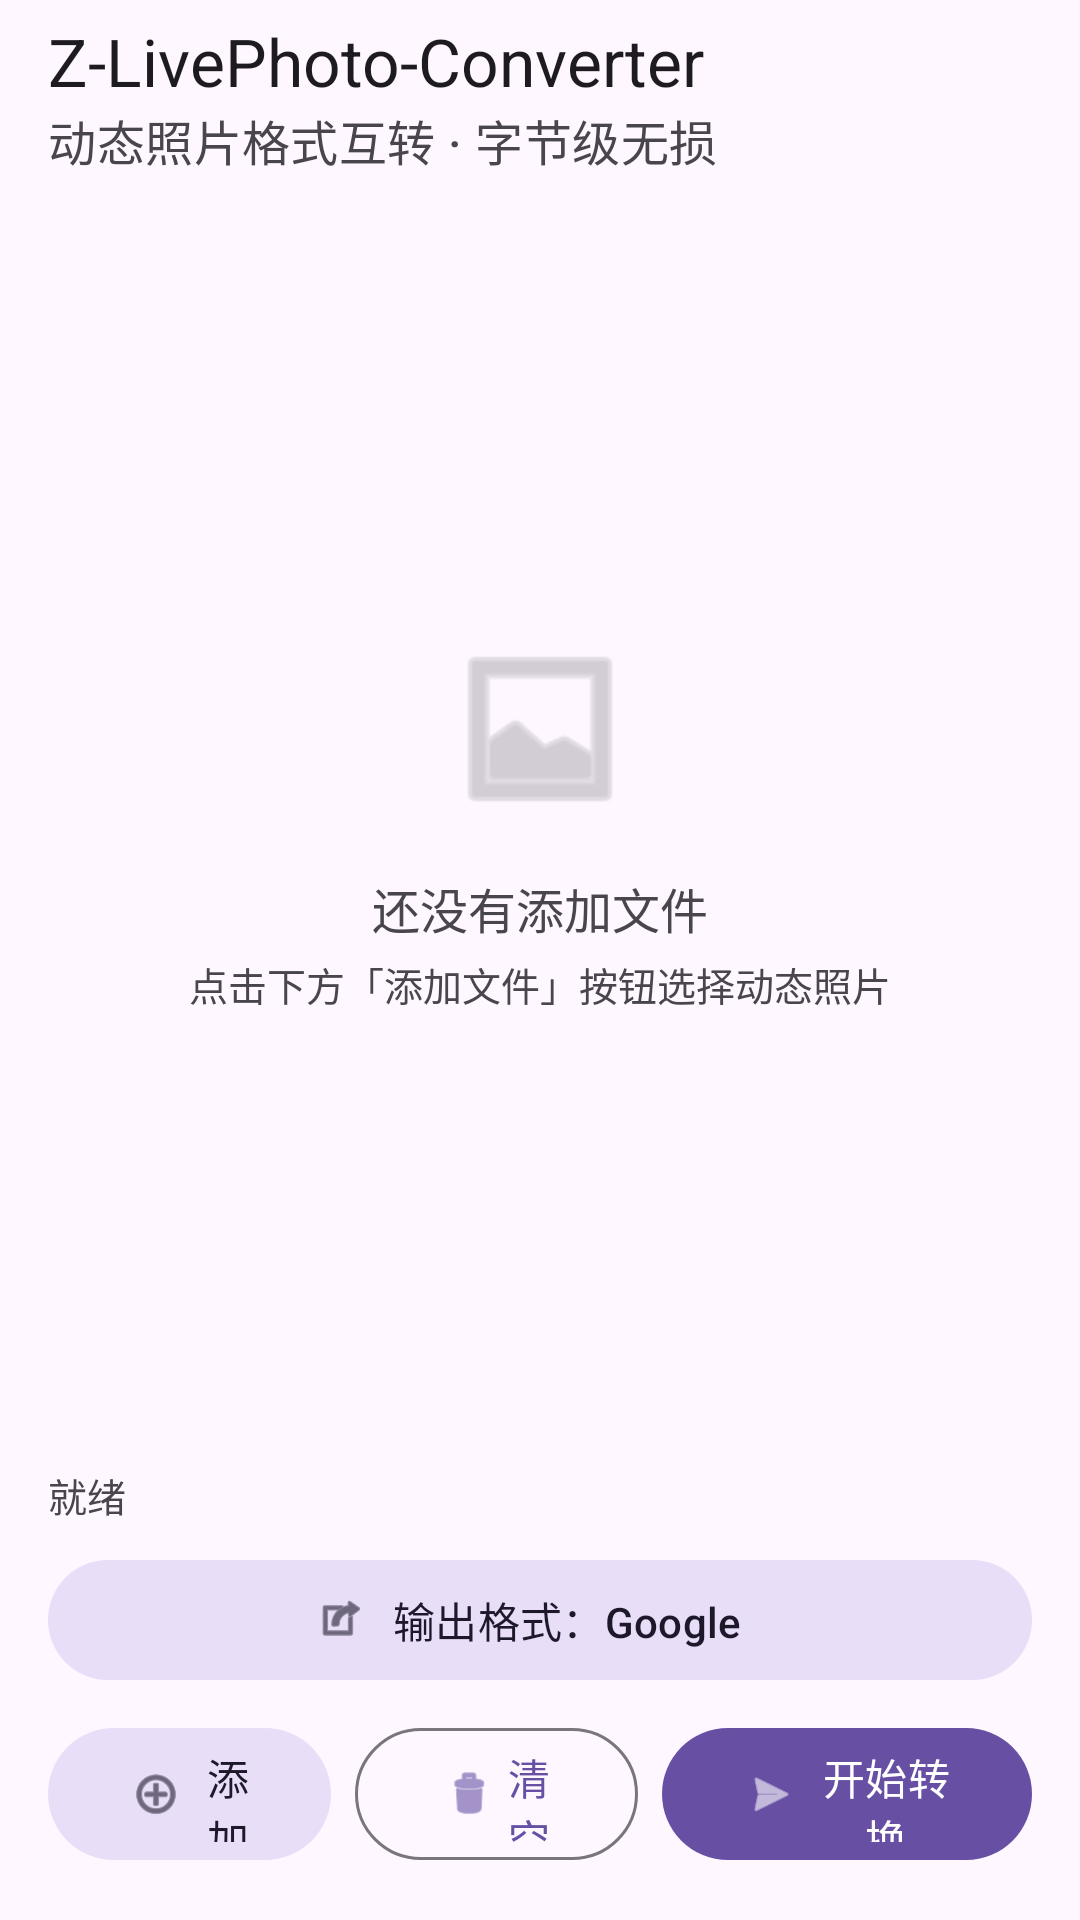

Locate icon controls on the screen. Image size 1080 x 1920, boxes as bbox=(x1, y1, x2, y2).
gallery: bbox=(469, 658, 611, 800)
